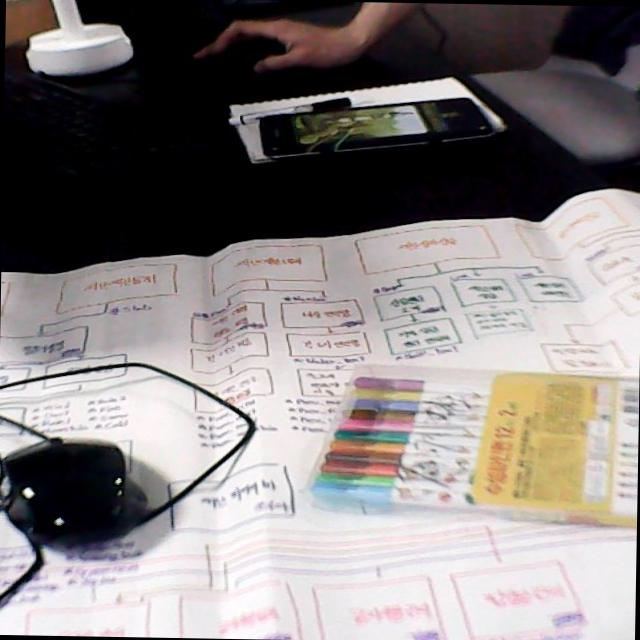mouse: (0, 428, 146, 555)
signpen: (292, 354, 638, 533)
